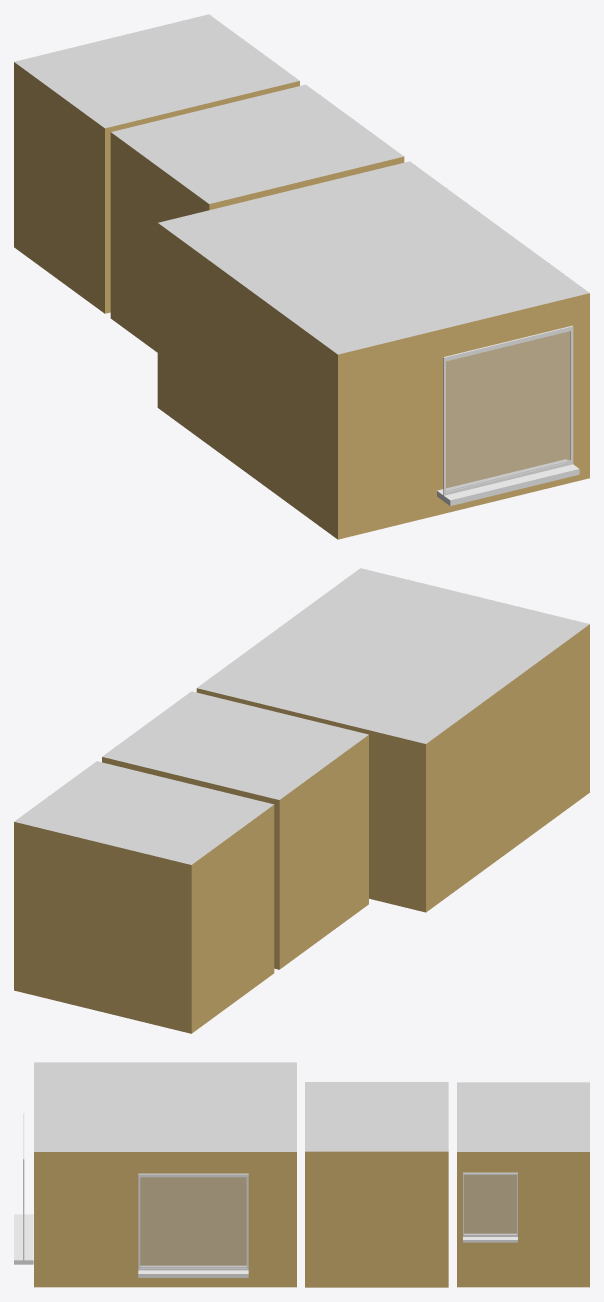
The model's file is Bedroom_4.glb.
3 views of the same model, one above another, from view 1: azimuth 30°, elevation 25°; view 2: azimuth 150°, elevation 25°; view 3: azimuth 270°, elevation 25° (orthographic). The views are drawn at different scales.
Visible parts, largest first — view 1: Room_Bedroom4, Room_En-Suite4, Room_Dressing4, Bedroom4_Window_South; view 2: Room_Bedroom4, Room_En-Suite4, Room_Dressing4; view 3: Room_Bedroom4, Room_Dressing4, Room_En-Suite4, Bedroom4_Window_SE, Bedroom4_Window_NE, Bedroom4_Window_South.
Boxes of the visible parts, x1=… form: Room_Bedroom4: x1=157, y1=161, x2=589, y2=539; Room_En-Suite4: x1=14, y1=14, x2=299, y2=313; Room_Dressing4: x1=110, y1=84, x2=404, y2=352; Bedroom4_Window_South: x1=437, y1=325, x2=579, y2=506; Room_Bedroom4: x1=196, y1=568, x2=589, y2=912; Room_En-Suite4: x1=14, y1=761, x2=274, y2=1033; Room_Dressing4: x1=102, y1=691, x2=368, y2=969; Room_Bedroom4: x1=34, y1=1062, x2=296, y2=1287; Room_Dressing4: x1=305, y1=1082, x2=448, y2=1287; Room_En-Suite4: x1=457, y1=1082, x2=589, y2=1287; Bedroom4_Window_SE: x1=138, y1=1173, x2=248, y2=1277; Bedroom4_Window_NE: x1=463, y1=1172, x2=517, y2=1242; Bedroom4_Window_South: x1=14, y1=1113, x2=33, y2=1264.
Bounding box in the file's own units: 3.86 × 2.46 × 9.45.
